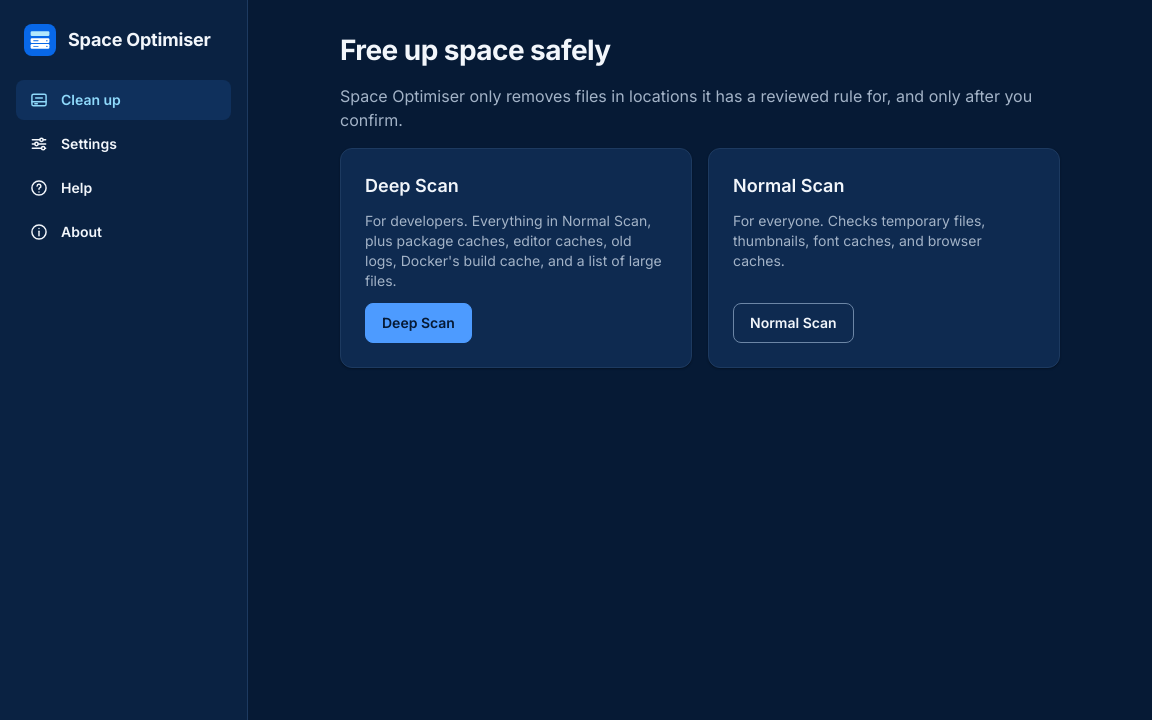
scanning › shows how long the scan has been running
Click the button "Deep Scan". click: [418, 323]
box: [365,303,472,343]
Wait 72000 ms
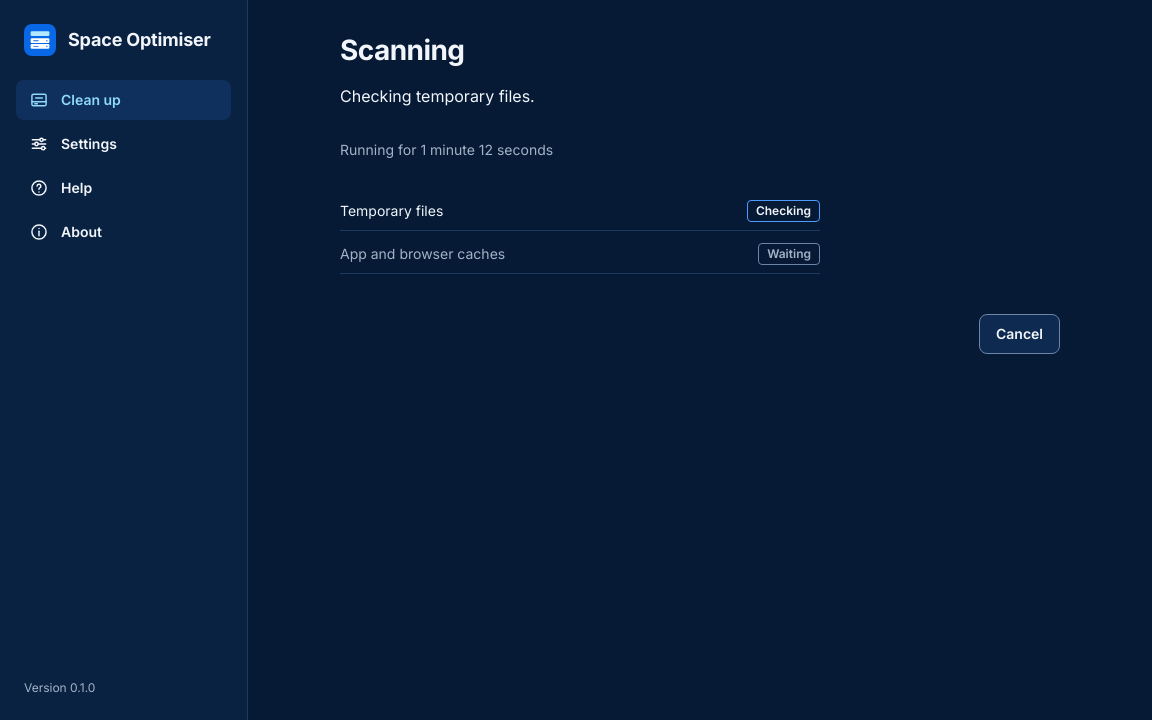
Now the text "Running for 1 minute 12 seconds" is shown, box [340,141,553,158]
